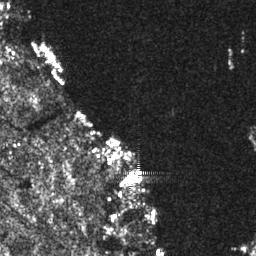ship: (118, 167, 142, 187), (40, 42, 58, 62), (49, 68, 66, 85), (77, 110, 92, 127), (28, 39, 42, 57), (150, 207, 158, 225), (110, 136, 121, 146)
